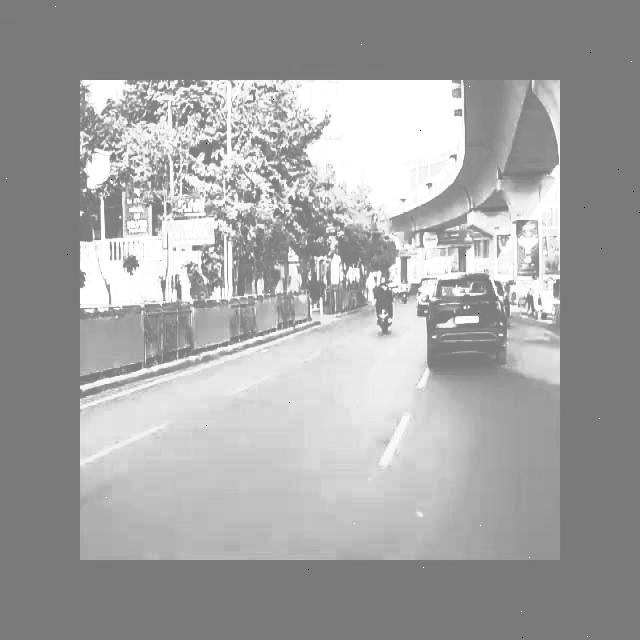Car: (422, 264, 508, 374)
